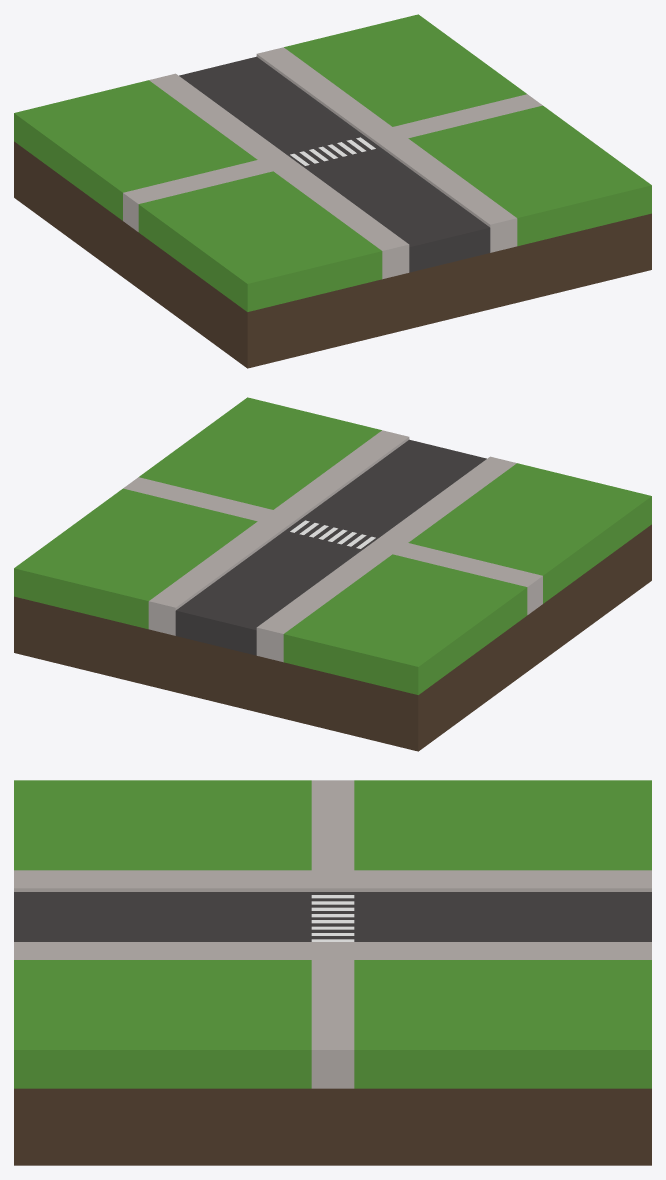
Rendered from tile-road-straight-crosswalk.glb.
The picture shows the model from 3 angles, top to bottom: view 1: azimuth 30°, elevation 25°; view 2: azimuth 150°, elevation 25°; view 3: azimuth 270°, elevation 25°; orthographic projection. The views are drawn at different scales.
Parts seen in each view (by area): view 1: tile-road-straight-crosswalk; view 2: tile-road-straight-crosswalk; view 3: tile-road-straight-crosswalk.
Boxes of the visible parts, x1,y1,x2,y2 form: tile-road-straight-crosswalk: (14, 14, 651, 368); tile-road-straight-crosswalk: (14, 397, 651, 751); tile-road-straight-crosswalk: (14, 780, 651, 1165).
Size of the model in its own units: 30 by 6 by 30.
Materials: 1 (1 with a texture image).
